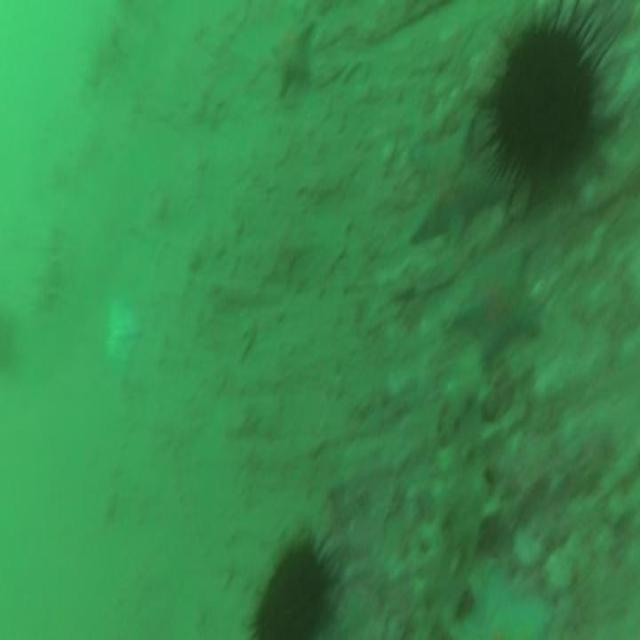echinus: (497, 21, 593, 177), (256, 543, 328, 640)
starfish: (409, 120, 492, 247), (457, 251, 536, 359), (271, 22, 316, 93)
